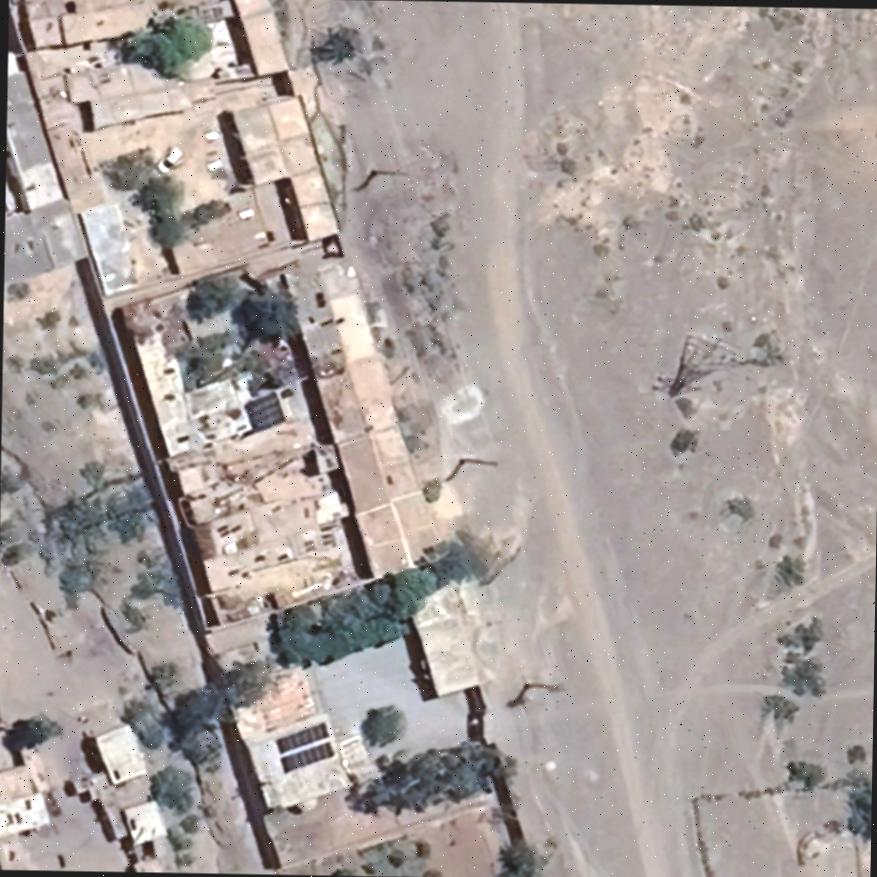Solarpanel: (268, 717, 336, 779), (234, 384, 290, 437)
